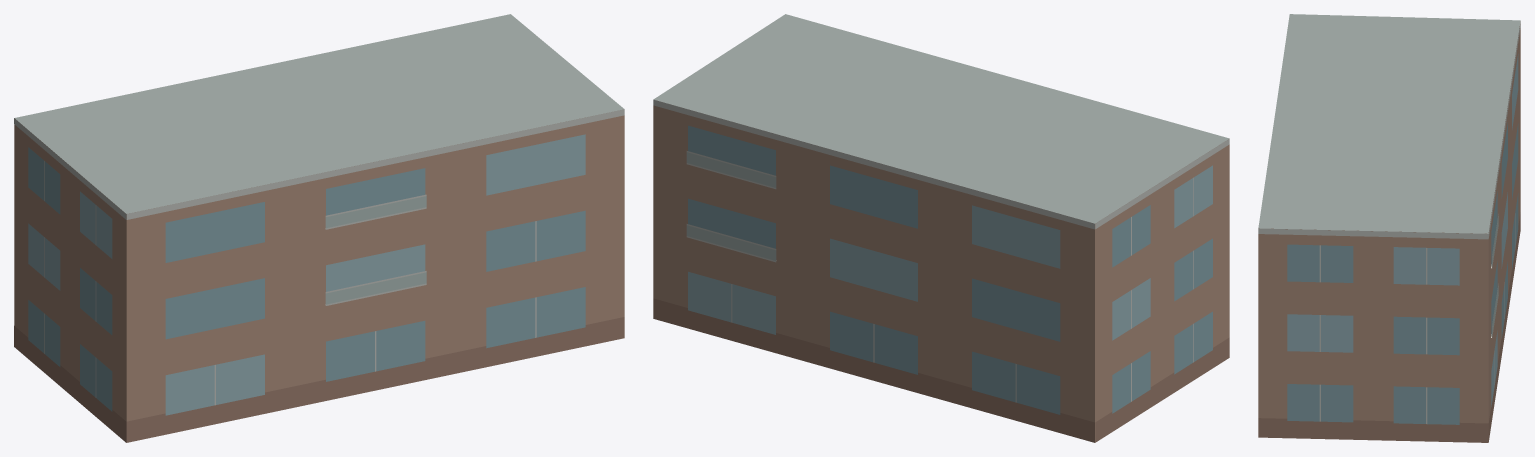
The model's file is survey-upis-32552479.glb.
3 views of the same model, side by side, from view 1: azimuth 30°, elevation 25°; view 2: azimuth 150°, elevation 25°; view 3: azimuth 270°, elevation 25° (orthographic). The views are drawn at different scales.
Visible parts, largest first — view 1: survey-upis-32552479.tmp; view 2: survey-upis-32552479.tmp; view 3: survey-upis-32552479.tmp.
Part boxes in pixels (x1,y1,x2,y2): survey-upis-32552479.tmp: (14, 14, 624, 442); survey-upis-32552479.tmp: (653, 14, 1229, 442); survey-upis-32552479.tmp: (1258, 14, 1520, 442).
Bounding box in the file's own units: 20.64 × 9.15 × 10.42.
